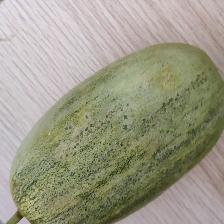gua: (53, 77, 170, 194)
